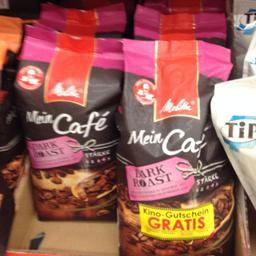coffee: (117, 36, 232, 254), (12, 20, 122, 220)
